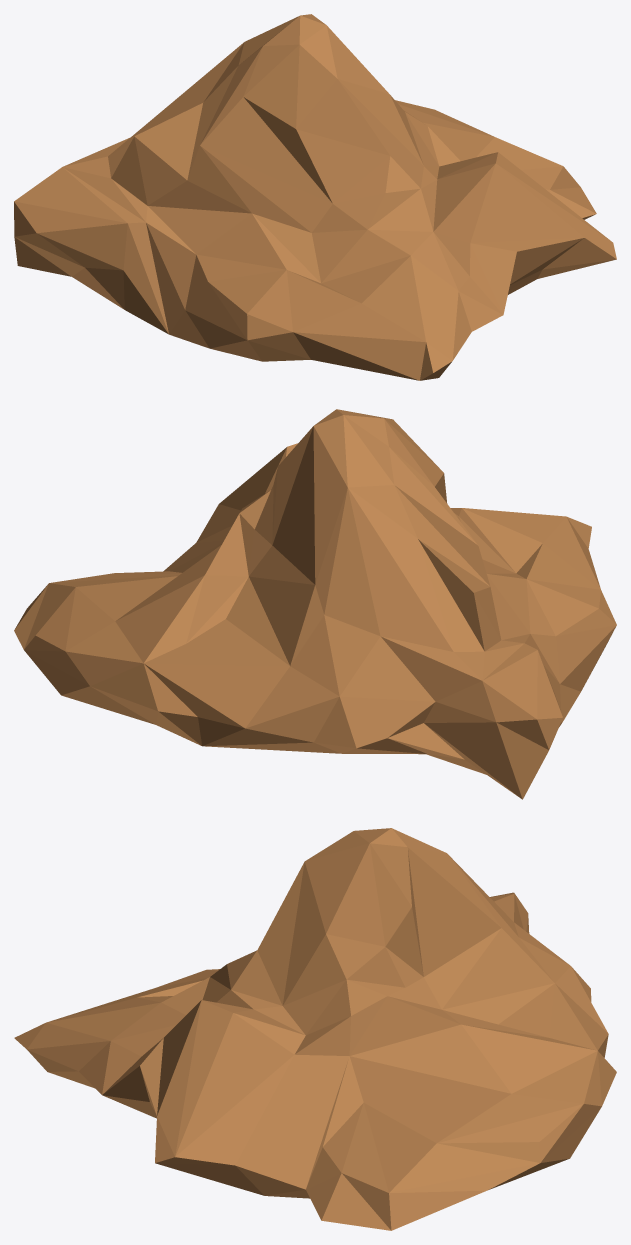
The model's file is RockSand_04.glb.
3 views of the same model, one above another, from view 1: azimuth 30°, elevation 25°; view 2: azimuth 150°, elevation 25°; view 3: azimuth 270°, elevation 25° (orthographic). The views are drawn at different scales.
Visible parts, largest first — view 1: RockSand_04; view 2: RockSand_04; view 3: RockSand_04.
Boxes of the visible parts, x1,y1,x2,y2 form: RockSand_04: (14, 14, 616, 380); RockSand_04: (14, 409, 616, 799); RockSand_04: (14, 828, 616, 1230).
Size of what is drawn, in the model's own units: 6.51 by 3.21 by 6.18.
1 material, 1 textured.
